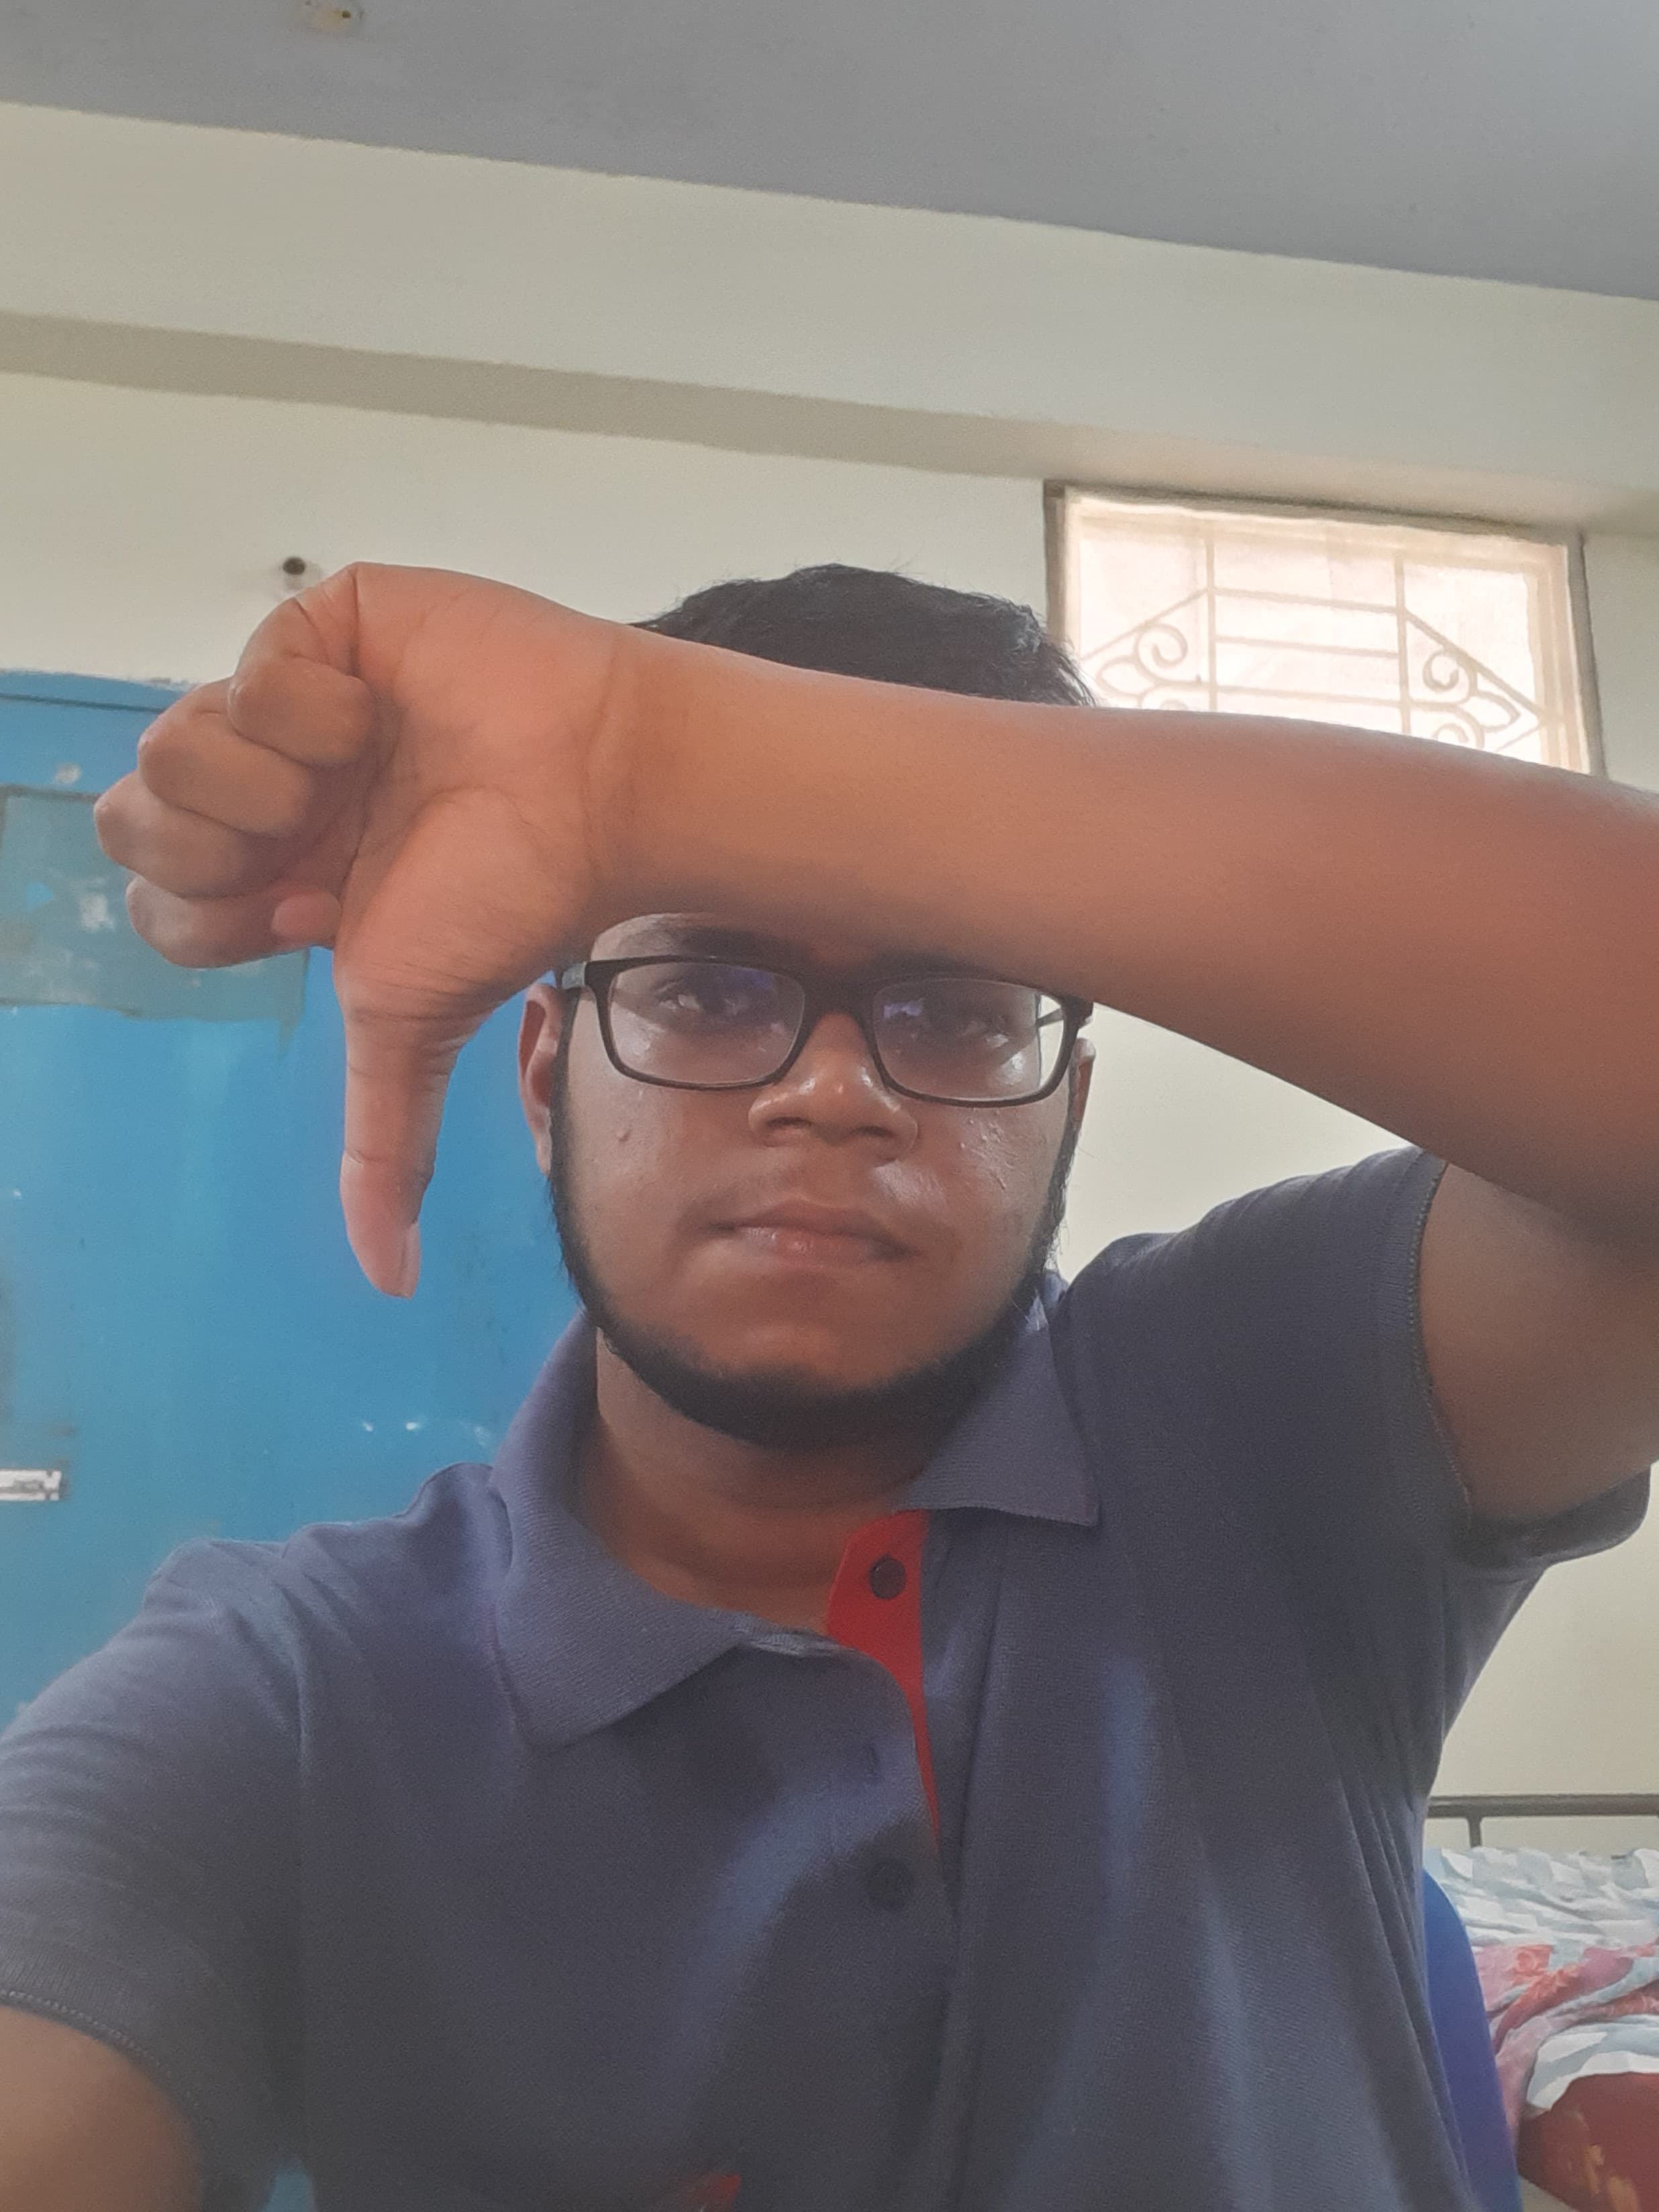td11: (94, 547, 624, 1303)
